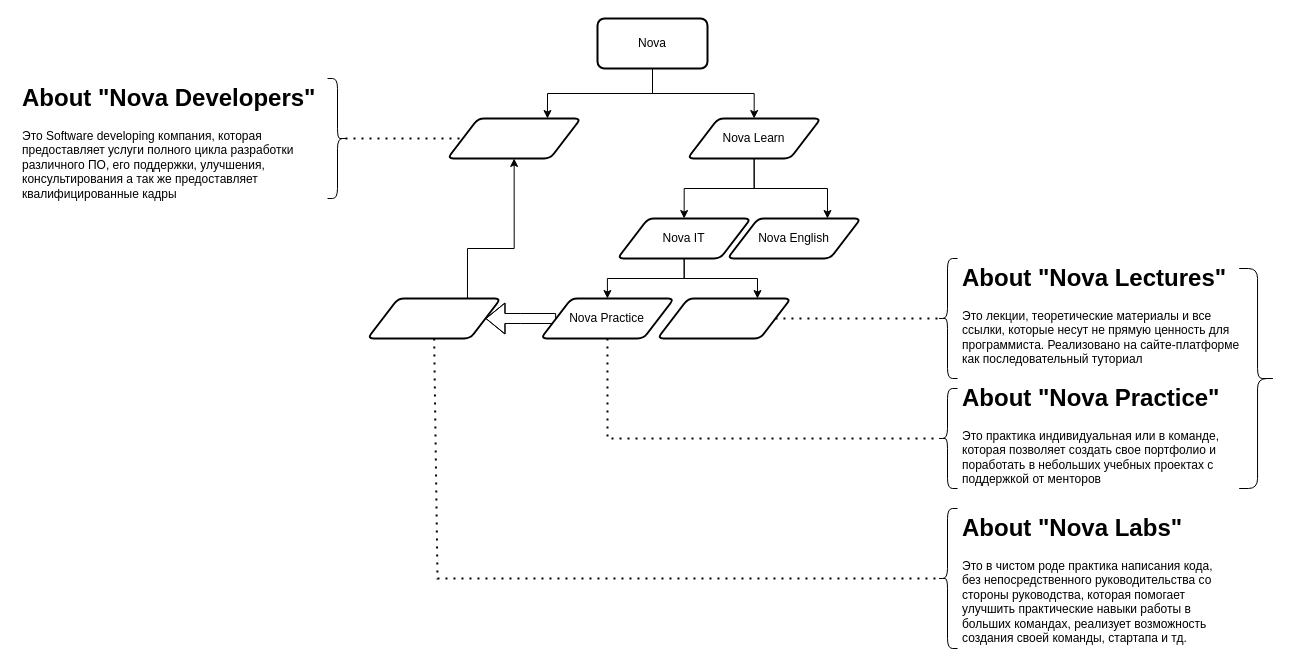
This 1293x666 diagram has some shape labels left out. The shapes that lost their labels are listed below. From the top down, each one's centre as x and y in pixels, then its label:
At [513,138]: "Nova developers".
At [433,318]: "Nova Labs".
At [723,318]: "Nova Lectures".
